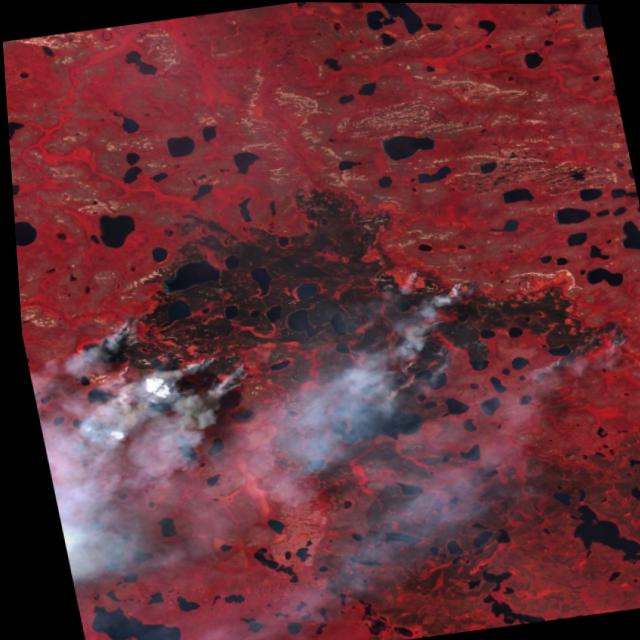fire: (344, 232, 637, 401), (59, 289, 256, 427)
